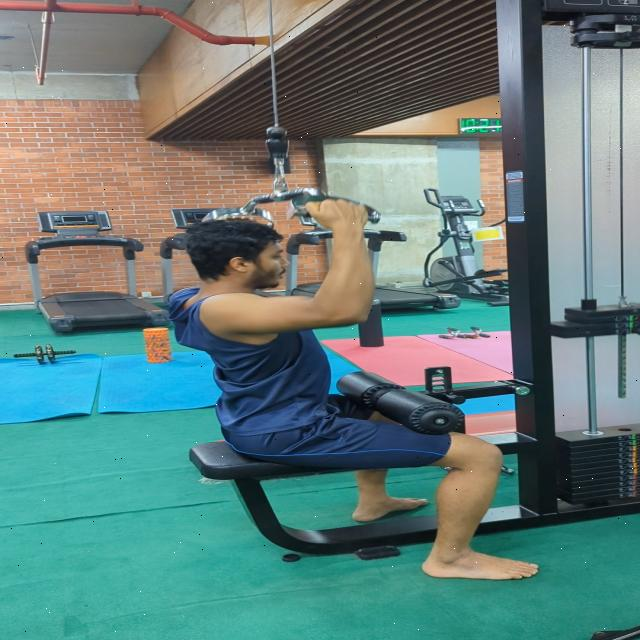Normal_LatPulldown: (148, 197, 572, 588)
